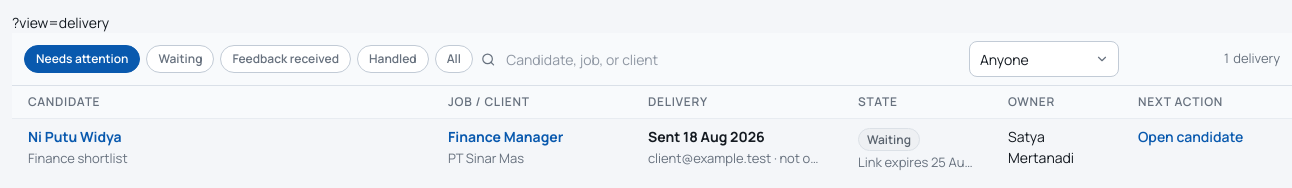
Scenario: DeliveryWorkbench › filters › puts the quick view in the URL and asks the server for it
The width and height of the screenshot is (1292, 188).
Expected: the text "Ni Putu Widya" is shown, [28,127,122,146]
Click the radio button labelled "Feedback received". click: click(286, 59)
box: [220,45,351,73]
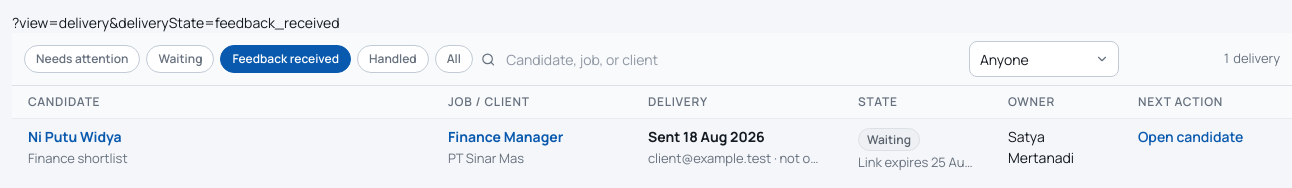
Now the text with test id "search" shows "deliveryState=feedback_received", box [12,13,340,32]
